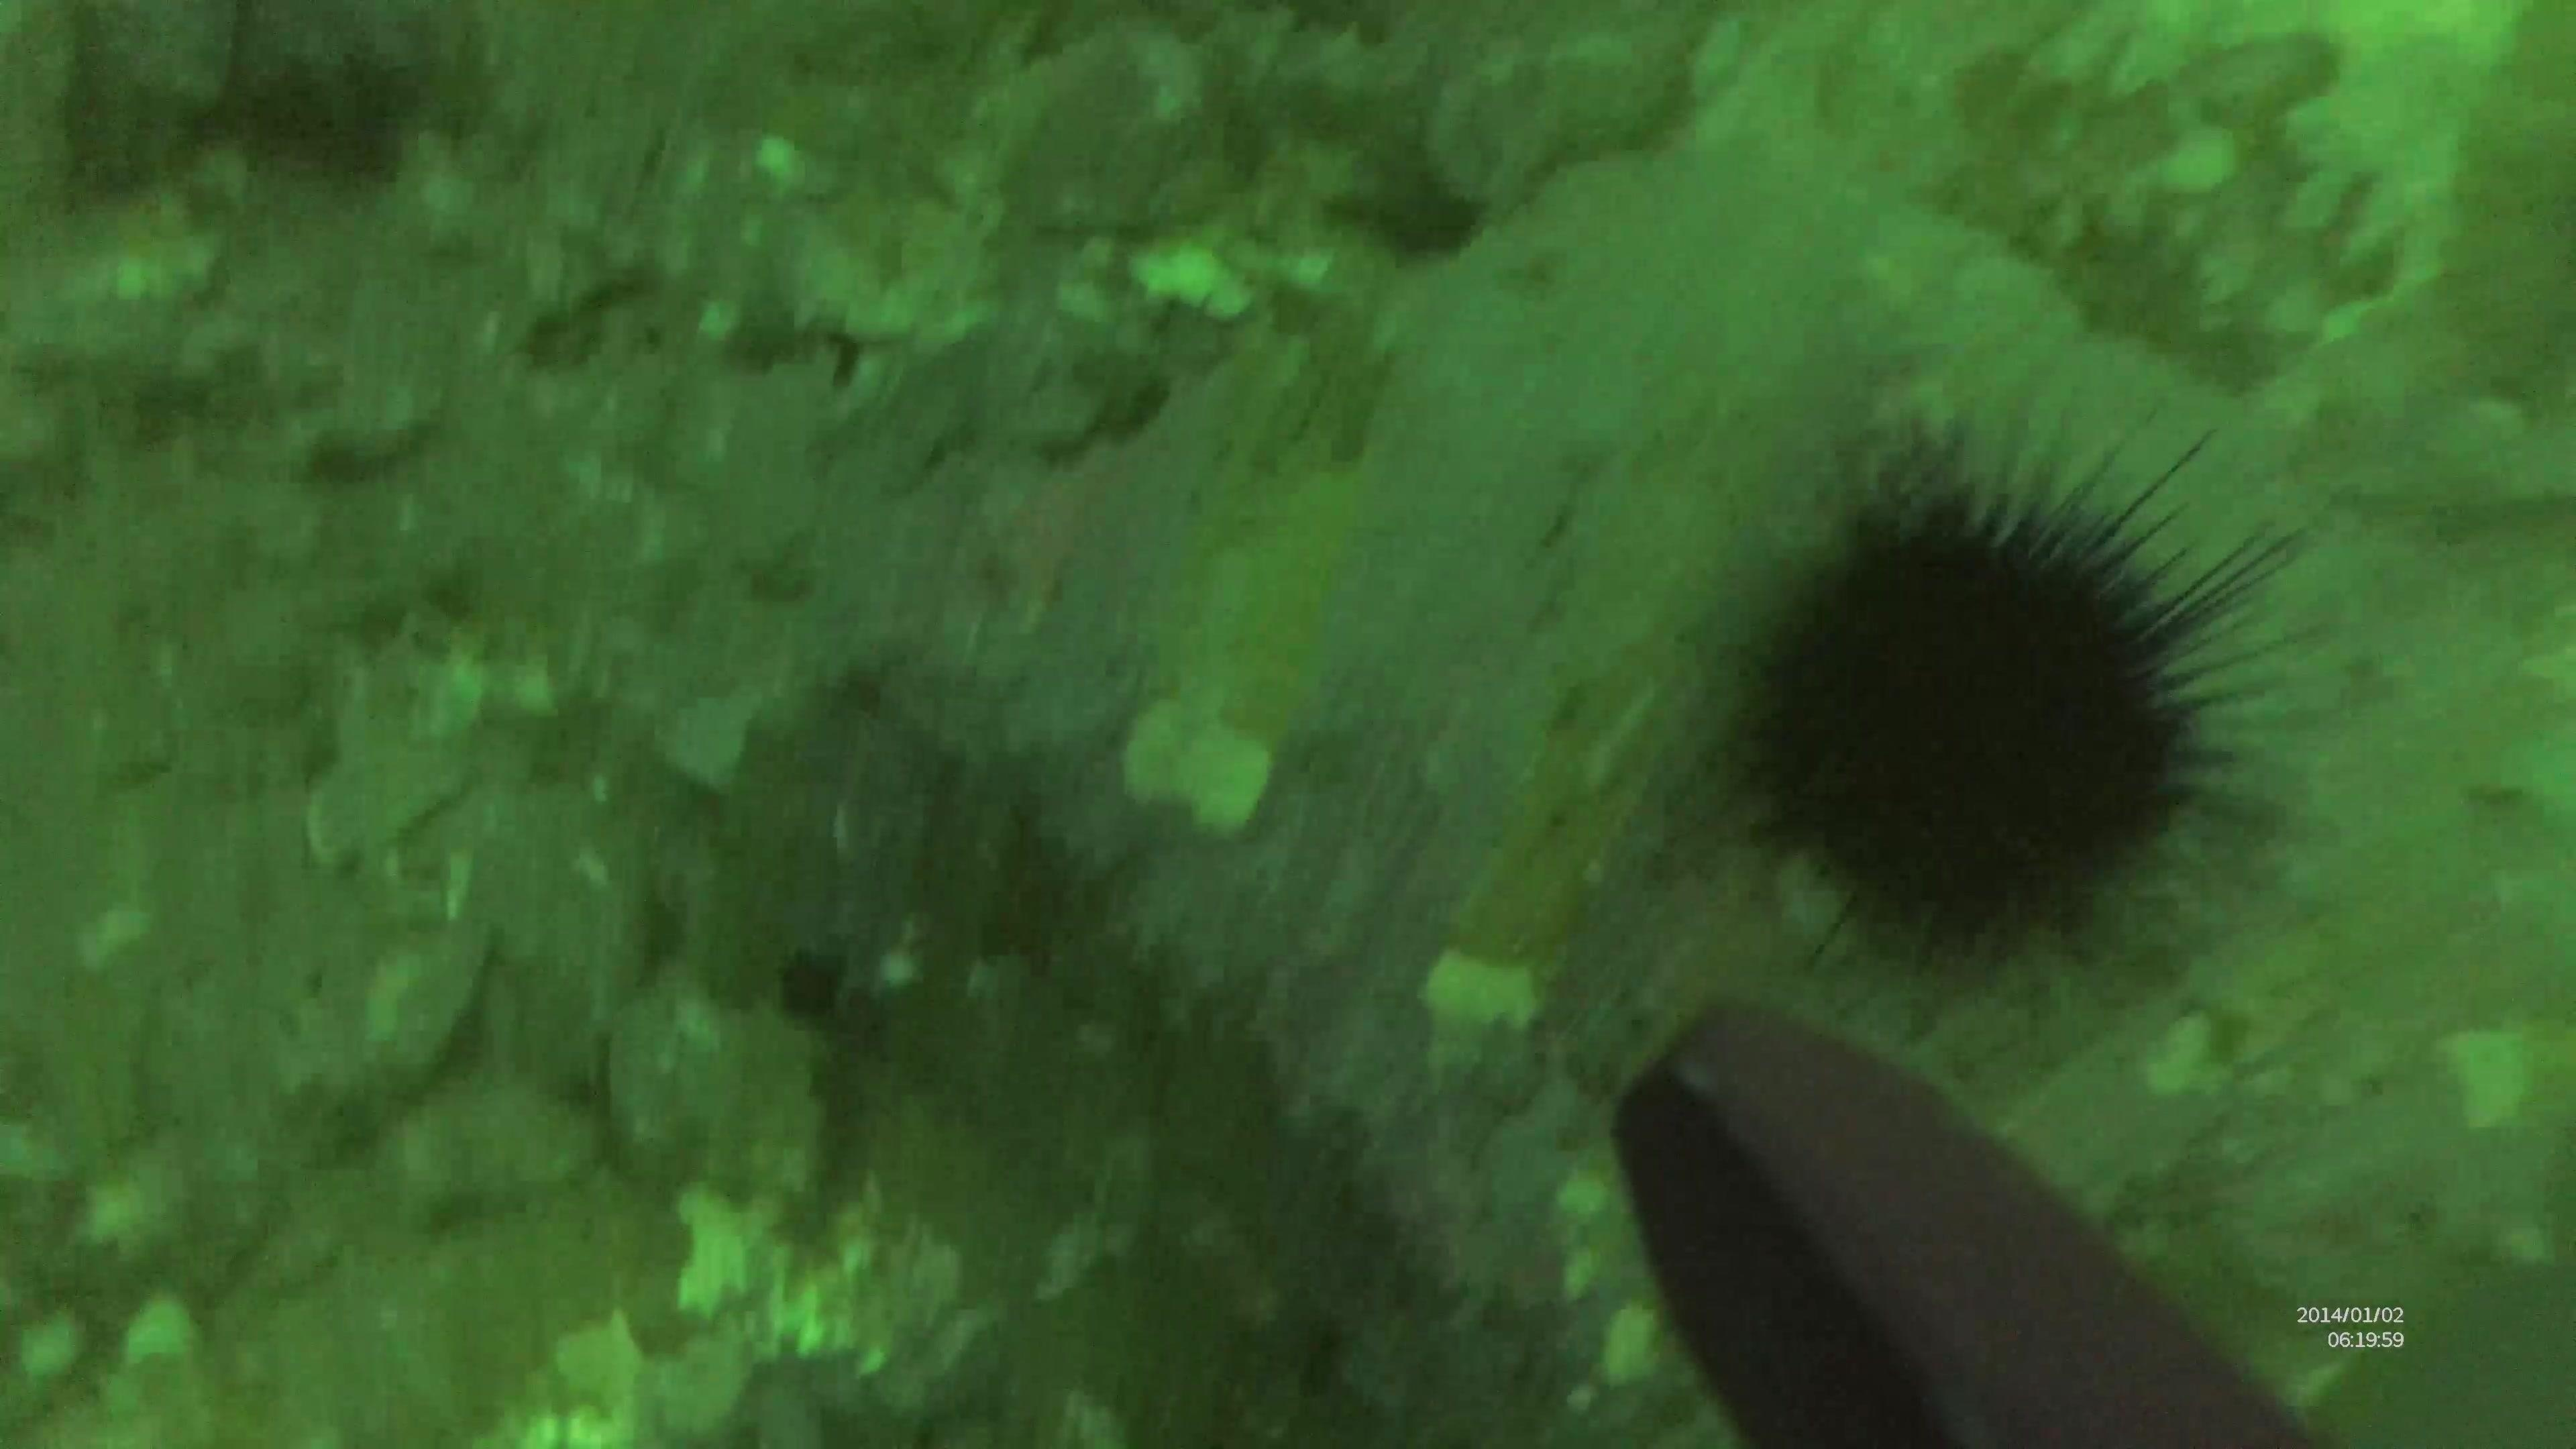echinus: (1714, 410, 2314, 977)
